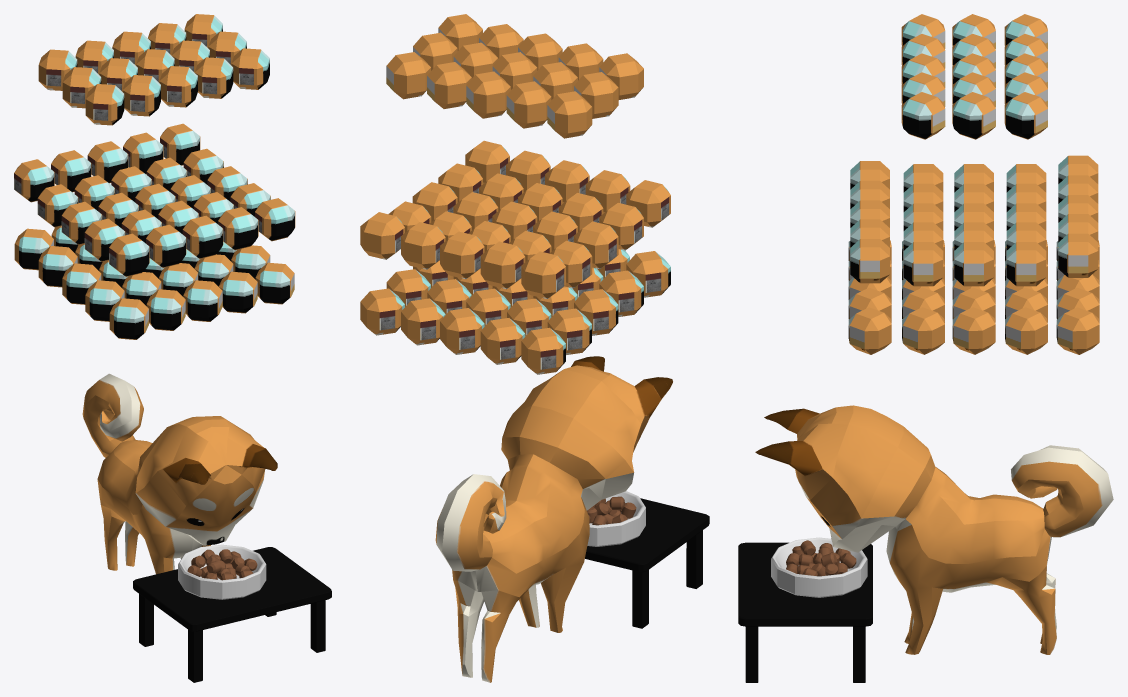
File: fullBowl_frame31.obj
3 views of the same model, side by side, from view 1: azimuth 30°, elevation 25°; view 2: azimuth 150°, elevation 25°; view 3: azimuth 270°, elevation 25° (orthographic). The views are drawn at different scales.
Parts seen in each view (by area): view 1: newRigging1:BodzL1, Tisch:Tisch:pCube1, FressnapfFull:bulletRigidSetSolved1, FressnapfFull:pCube45, FressnapfFull:pCube46, FressnapfFull:pCube57, FressnapfFull:pCube48, FressnapfFull:pCube50, FressnapfFull:pCube43, FressnapfFull:pCube49, FressnapfFull:pCube42, FressnapfFull:pCube36 (+44 smaller); view 2: newRigging1:BodzL1, Tisch:Tisch:pCube1, FressnapfFull:pCube39, FressnapfFull:pCube51, FressnapfFull:pCube64, FressnapfFull:pCube54, FressnapfFull:pCube37, FressnapfFull:pCube61, FressnapfFull:pCube55, FressnapfFull:pCube53, FressnapfFull:pCube41, FressnapfFull:pCube38 (+45 smaller); view 3: newRigging1:BodzL1, Tisch:Tisch:pCube1, FressnapfFull:bulletRigidSetSolved1, FressnapfFull:pCube36, FressnapfFull:pCube4, FressnapfFull:pCube41, FressnapfFull:pCube50, FressnapfFull:pCube55, FressnapfFull:pCube31, FressnapfFull:pCube20, FressnapfFull:pCube10, FressnapfFull:pCube15 (+42 smaller).
Part boxes in pixels (box(x1,y1,x2,y2)): newRigging1:BodzL1: box(82, 373, 277, 574); Tisch:Tisch:pCube1: box(133, 547, 331, 682); FressnapfFull:bulletRigidSetSolved1: box(178, 544, 266, 599); FressnapfFull:pCube45: box(85, 84, 124, 125); FressnapfFull:pCube46: box(109, 298, 148, 339); FressnapfFull:pCube57: box(109, 233, 149, 276); FressnapfFull:pCube48: box(183, 280, 222, 321); FressnapfFull:pCube50: box(255, 262, 294, 304); FressnapfFull:pCube43: box(159, 66, 197, 107); FressnapfFull:pCube49: box(146, 289, 185, 330); FressnapfFull:pCube42: box(122, 75, 160, 116); FressnapfFull:pCube36: box(231, 48, 269, 89); newRigging1:BodzL1: box(435, 356, 672, 682); Tisch:Tisch:pCube1: box(585, 498, 709, 628); FressnapfFull:pCube39: box(547, 91, 592, 138); FressnapfFull:pCube51: box(521, 327, 565, 374); FressnapfFull:pCube64: box(521, 251, 565, 298); FressnapfFull:pCube54: box(480, 318, 525, 364); FressnapfFull:pCube37: box(506, 81, 551, 128); FressnapfFull:pCube61: box(480, 241, 525, 289); FressnapfFull:pCube55: box(360, 288, 404, 335); FressnapfFull:pCube53: box(440, 308, 484, 354); FressnapfFull:pCube41: box(386, 52, 430, 99); FressnapfFull:pCube38: box(466, 71, 510, 118); newRigging1:BodzL1: box(755, 405, 1113, 654); Tisch:Tisch:pCube1: box(738, 542, 872, 682); FressnapfFull:bulletRigidSetSolved1: box(771, 537, 867, 597); FressnapfFull:pCube36: box(901, 92, 945, 139); FressnapfFull:pCube4: box(952, 307, 995, 354); FressnapfFull:pCube41: box(1004, 92, 1047, 139); FressnapfFull:pCube50: box(848, 307, 891, 354); FressnapfFull:pCube55: box(1056, 307, 1099, 354); FressnapfFull:pCube31: box(952, 92, 995, 139); FressnapfFull:pCube20: box(1006, 242, 1046, 286); FressnapfFull:pCube10: box(902, 307, 944, 354); FressnapfFull:pCube15: box(1005, 307, 1047, 354).
Bounding box in the file's own units: 5.73 × 16.34 × 9.44.
Materials: 4 (3 with a texture image).
